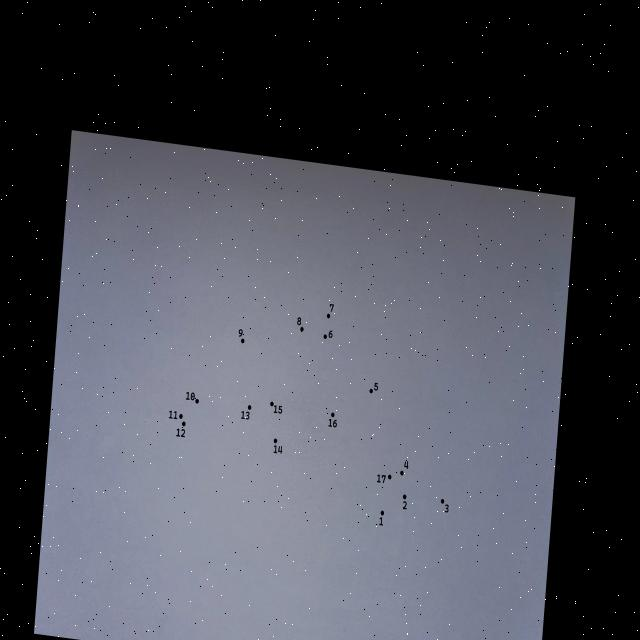Dot: (273, 438, 278, 444), (247, 405, 252, 410), (369, 388, 374, 393), (195, 398, 199, 404), (182, 421, 186, 427), (270, 401, 274, 407), (330, 412, 334, 418), (300, 326, 304, 332), (388, 474, 392, 480), (380, 510, 384, 516), (403, 494, 407, 500), (400, 470, 404, 476), (241, 338, 245, 343), (179, 414, 183, 419), (324, 334, 327, 339), (441, 499, 444, 504), (327, 314, 330, 318)
DotNumber: (240, 404, 252, 420), (176, 421, 186, 438), (270, 401, 283, 414), (376, 474, 392, 484), (186, 392, 199, 404), (169, 409, 183, 420), (328, 412, 337, 428), (400, 461, 409, 476), (274, 438, 282, 454), (441, 498, 449, 513), (369, 382, 378, 394), (238, 329, 245, 344), (297, 317, 304, 332), (327, 304, 334, 318), (323, 330, 333, 339), (379, 510, 384, 526), (403, 494, 407, 510)
Number: (168, 410, 178, 420), (176, 428, 186, 438), (186, 391, 195, 401), (241, 410, 250, 420), (377, 474, 386, 483), (274, 404, 282, 414), (329, 418, 337, 428), (274, 445, 282, 454), (328, 330, 333, 339), (238, 329, 243, 337), (379, 517, 384, 525), (403, 500, 407, 510), (374, 382, 378, 391), (404, 461, 408, 470), (444, 504, 448, 513), (297, 317, 301, 325), (330, 304, 334, 312)
